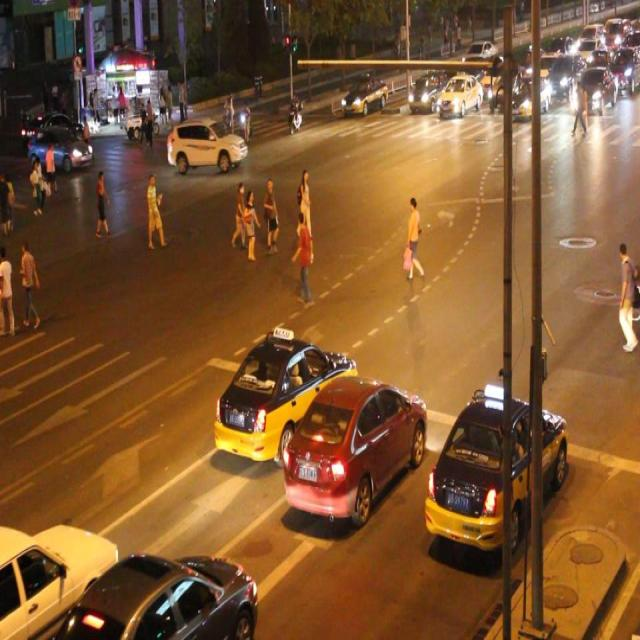car: (425, 395, 565, 552), (282, 375, 425, 523), (211, 335, 354, 466), (61, 554, 255, 640), (1, 514, 119, 640), (164, 119, 247, 170), (28, 126, 93, 173), (343, 71, 386, 119), (437, 73, 481, 119), (409, 73, 448, 114)
